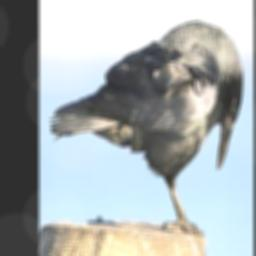Crow: (48, 18, 243, 253)
